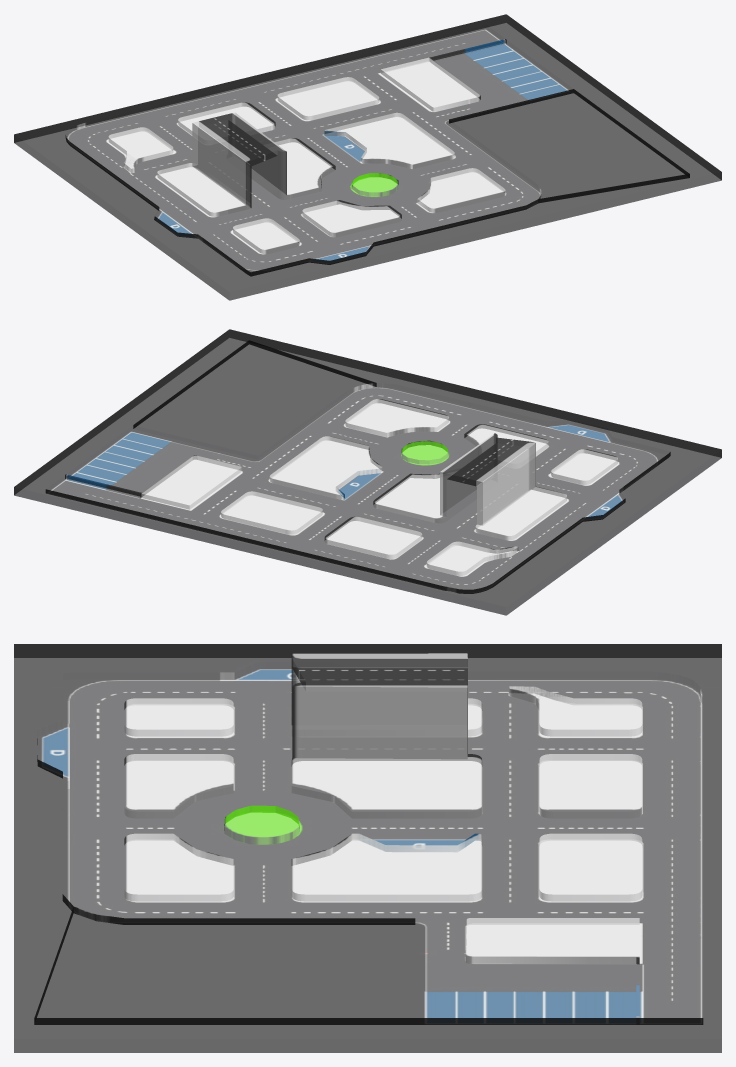
Rendered from pist.dae.
3 renders of one model, top to bottom at view 1: azimuth 30°, elevation 25°; view 2: azimuth 150°, elevation 25°; view 3: azimuth 270°, elevation 25°, orthographic. The views are drawn at different scales.
Visible parts, largest first — view 1: Box002; view 2: Box002; view 3: Box002.
Part boxes in pixels (x1,y1,x2,y2): Box002: (14, 14, 721, 300); Box002: (14, 329, 721, 615); Box002: (14, 644, 721, 1052).
Bounding box in the file's own units: 12020 × 1216 × 9110.
1 material, 1 textured.
